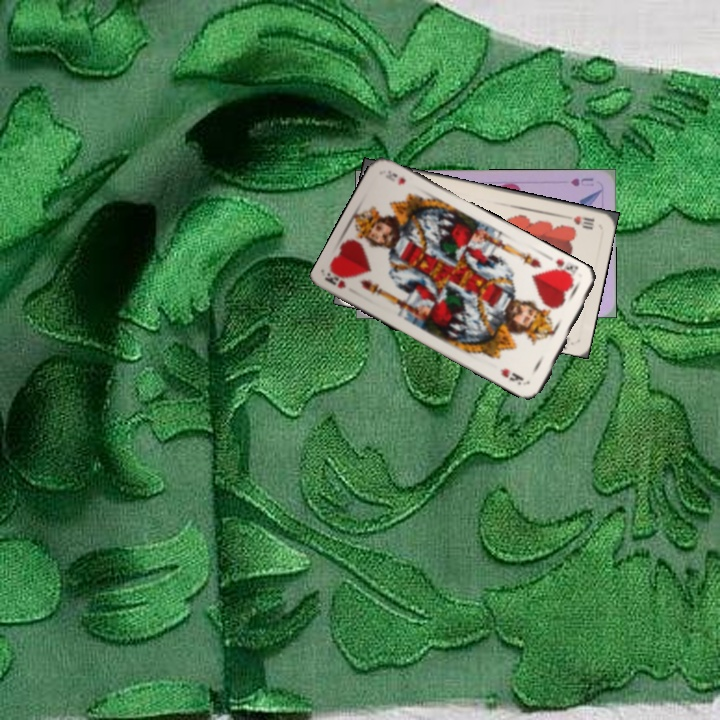H10: (569, 212, 597, 231)
HK: (548, 254, 581, 284), (324, 268, 349, 291)
HU: (567, 174, 596, 189)
